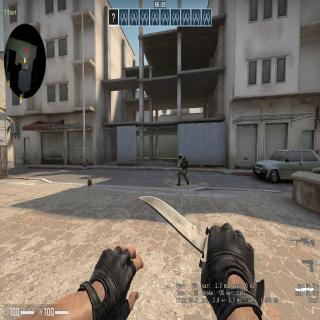CT-Body: (177, 152, 190, 185)
CT-Head: (178, 153, 182, 159)
